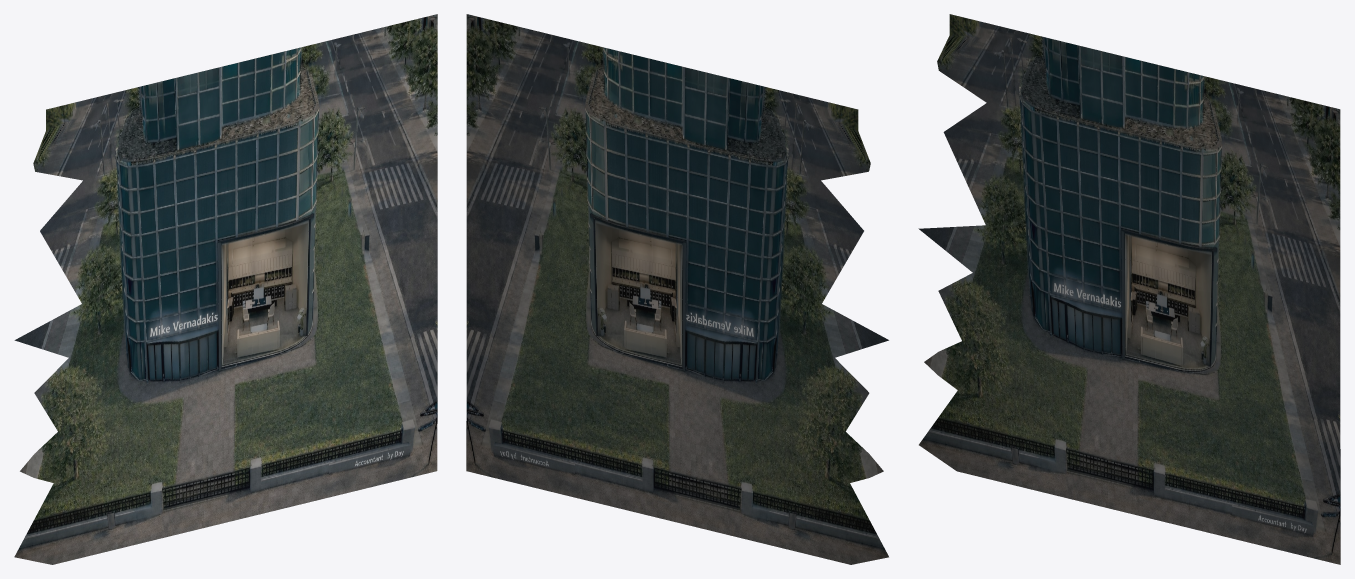
The model's file is Day.glb.
The picture shows the model from 3 angles, left to right: view 1: azimuth 30°, elevation 25°; view 2: azimuth 150°, elevation 25°; view 3: azimuth 330°, elevation 25°; orthographic projection.
Parts seen in each view (by area): view 1: Day; view 2: Day; view 3: Day.
Part boxes in pixels (bbox=[...]): Day: bbox=[14, 14, 437, 564]; Day: bbox=[466, 14, 888, 564]; Day: bbox=[918, 14, 1340, 564].
Size of the model in its own units: 7.64 by 7.89 by 0.0106.
1 material, 1 textured.
